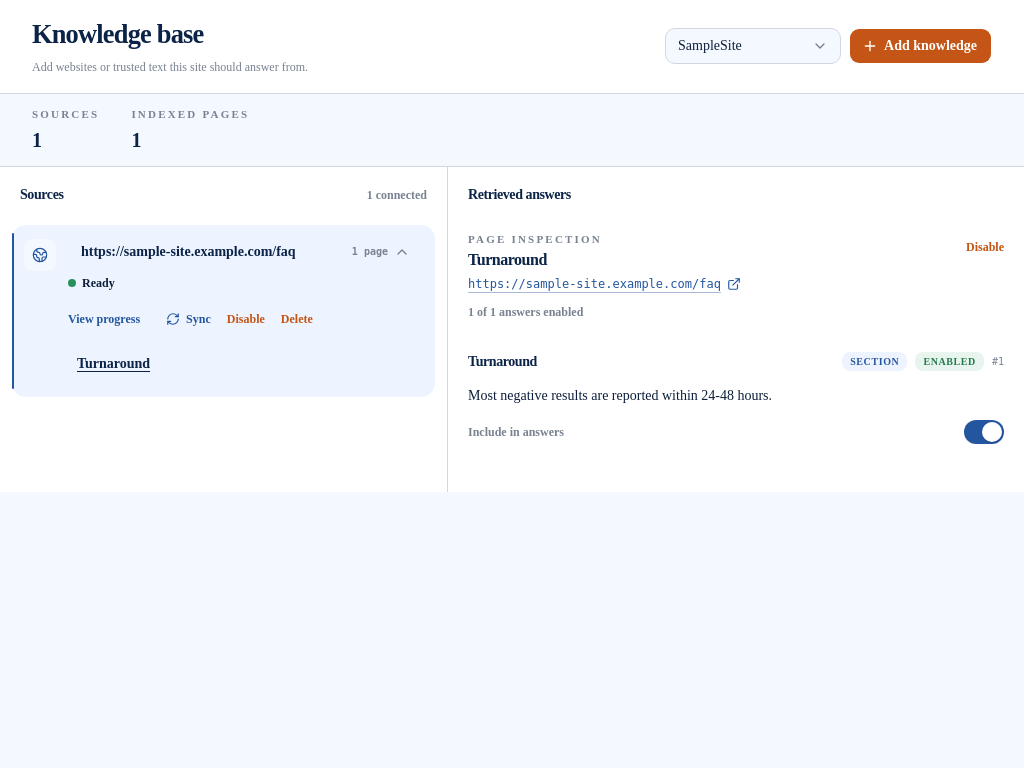
Scenario: knowledge add website › add website shows an inline error for a non-https URL
This screenshot has width=1024, height=768.
Click the button "Add knowledge".
click(920, 46)  # box [849,28,992,64]
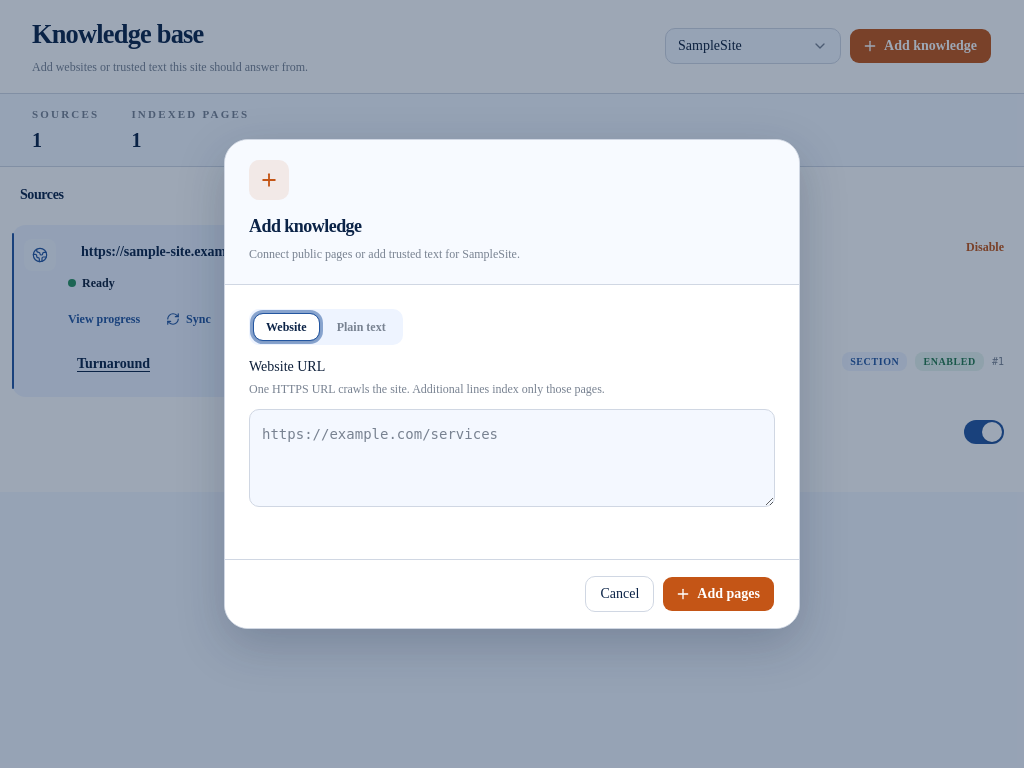
Type "javascript:alert(1)" into the text box labelled "Website URL".
click(512, 458); type("javascript:alert(1)")  # box [249,409,775,507]
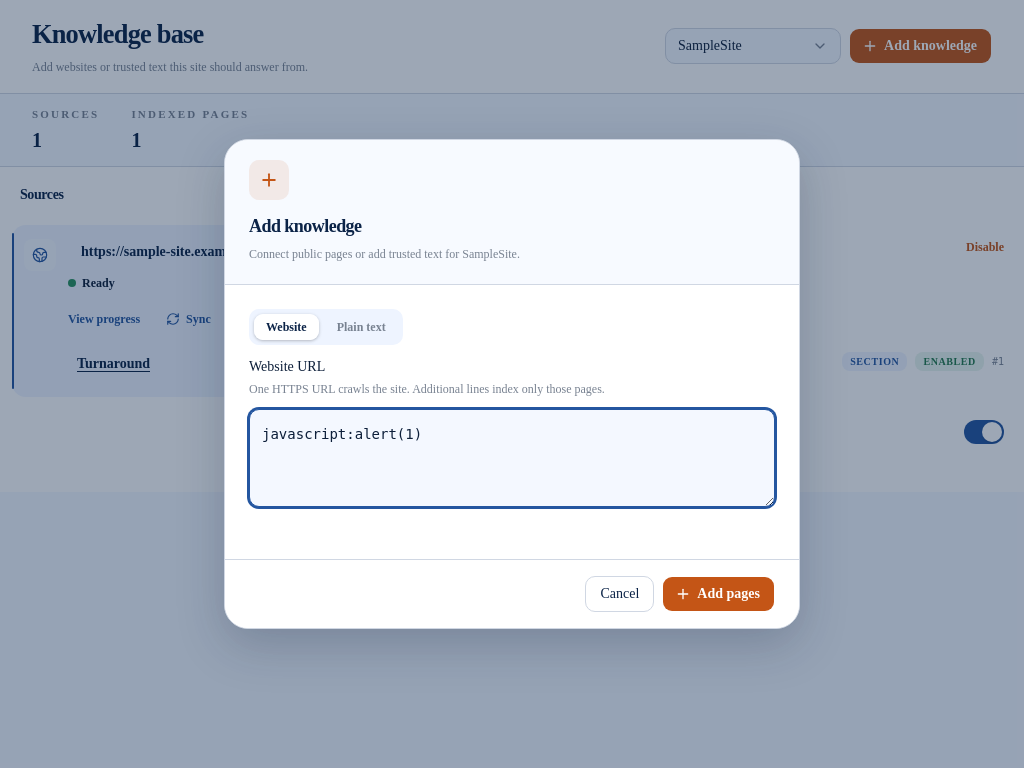
Click the button "Add pages".
click(719, 594)  # box [662,576,775,612]
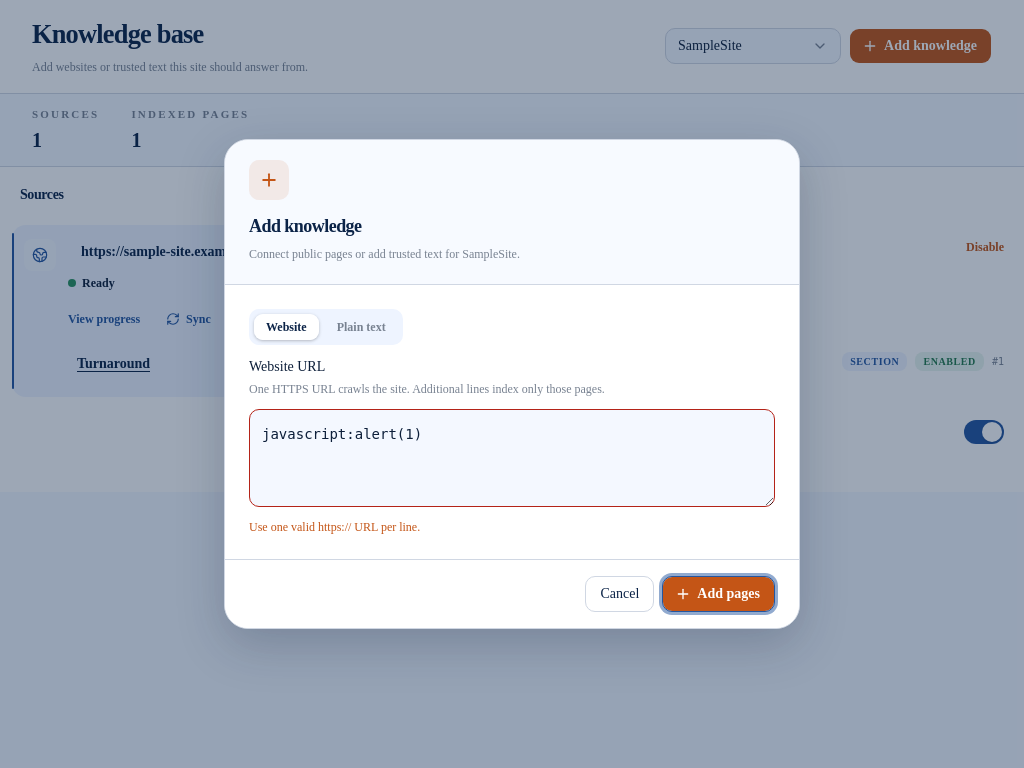
Check: the text "Use one valid https:// URL per line." is shown, box [249,520,420,534]
